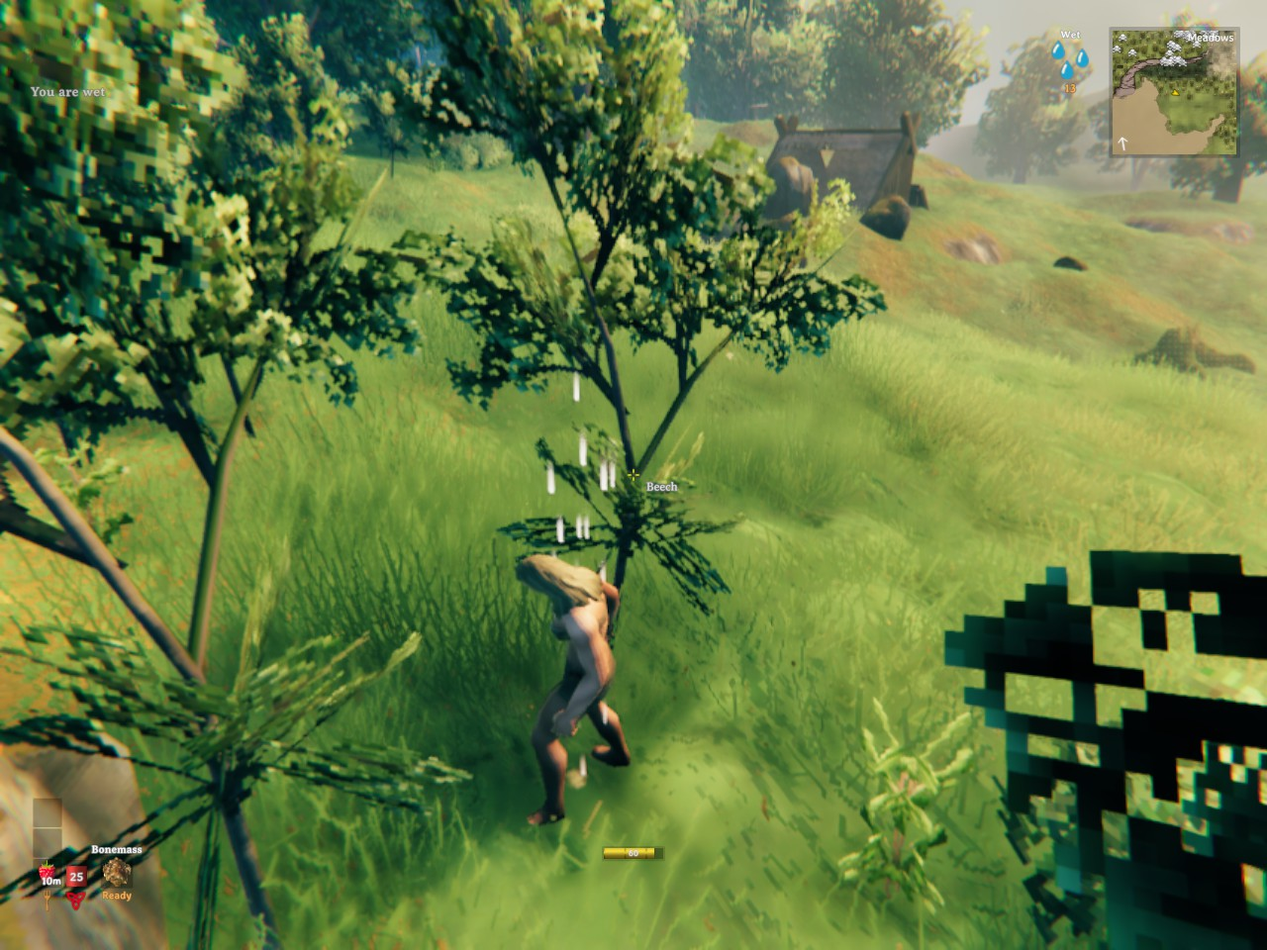House: (757, 109, 921, 230)
